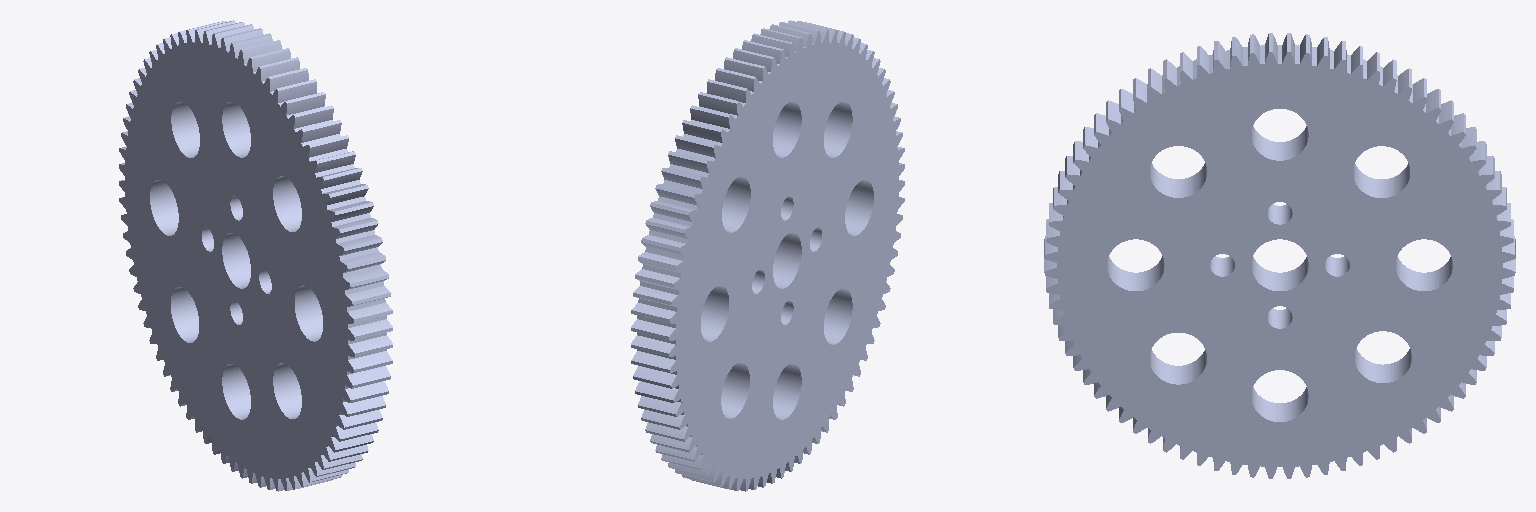
robot.urdf — abc_mesh_7_scale_12:
<?xml version="1.0" encoding="utf-8"?>
<!-- This URDF was automatically created by SolidWorks to URDF Exporter! Originally created by [author] ([email redacted]) 
     Commit Version: 1.5.1-0-g916b5db  Build Version: 1.5.7152.31018
     For more information, please see http://wiki.ros.org/sw_urdf_exporter -->
<robot
  name="abc_mesh_7_scale_12">
  <link
    name="abc_mesh_7_scale_12">
    <inertial>
      <origin
        xyz="0.0 0.0 -0.0"
        rpy="0 0 0" />
      <mass
        value="0.01" />
      <inertia
        ixx="0"
        ixy="-0"
        ixz="-0"
        iyy="0"
        iyz="-0"
        izz="0" />
    </inertial>
    <visual>
      <origin
        xyz="0 0 0"
        rpy="0 0 0" />
      <geometry>
        <mesh
          filename="package://ipa_kifz_data/test_dataset/meshes/abc_mesh_7_scale_12.STL" />
      </geometry>
      <material
        name="">
        <color
          rgba="0.79216 0.81961 0.93333 1" />
      </material>
    </visual>
    <collision>
      <origin
        xyz="0 0 0"
        rpy="0 0 0" />
      <geometry>
        <mesh
          filename="package://ipa_kifz_data/test_dataset/meshes/abc_mesh_7_scale_12.STL" />
      </geometry>
    </collision>
  </link>

  <!-- Turn of Gravity to fix workpiece at initial position-->
  <gazebo reference="abc_mesh_7_scale_12">
    <turnGravityOff>true</turnGravityOff>
    <static>true</static>
    <selfCollide>true</selfCollide>
    <material>Gazebo/Green</material>
  </gazebo>
</robot>

--- Render facts (derived) ---
Views: 3 orthographic renders of the robot side by side, from view 1: azimuth 30°, elevation 25°; view 2: azimuth 150°, elevation 25°; view 3: azimuth 270°, elevation 25°.
Robot: abc_mesh_7_scale_12 — 1 links, 0 joints (none); root link abc_mesh_7_scale_12; default pose: all joints at 0.
Visible links, largest first — view 1: abc_mesh_7_scale_12; view 2: abc_mesh_7_scale_12; view 3: abc_mesh_7_scale_12.
Boxes of the visible links, <box> form: abc_mesh_7_scale_12: <box>119,20,392,491</box>; abc_mesh_7_scale_12: <box>631,20,904,491</box>; abc_mesh_7_scale_12: <box>1044,33,1515,478</box>.
Bounding box of the posed robot: 0.0744 × 0.7868 × 0.7868 m (x, y, z).
1 mesh visuals loaded from 1 distinct referenced files (1 binary STL).